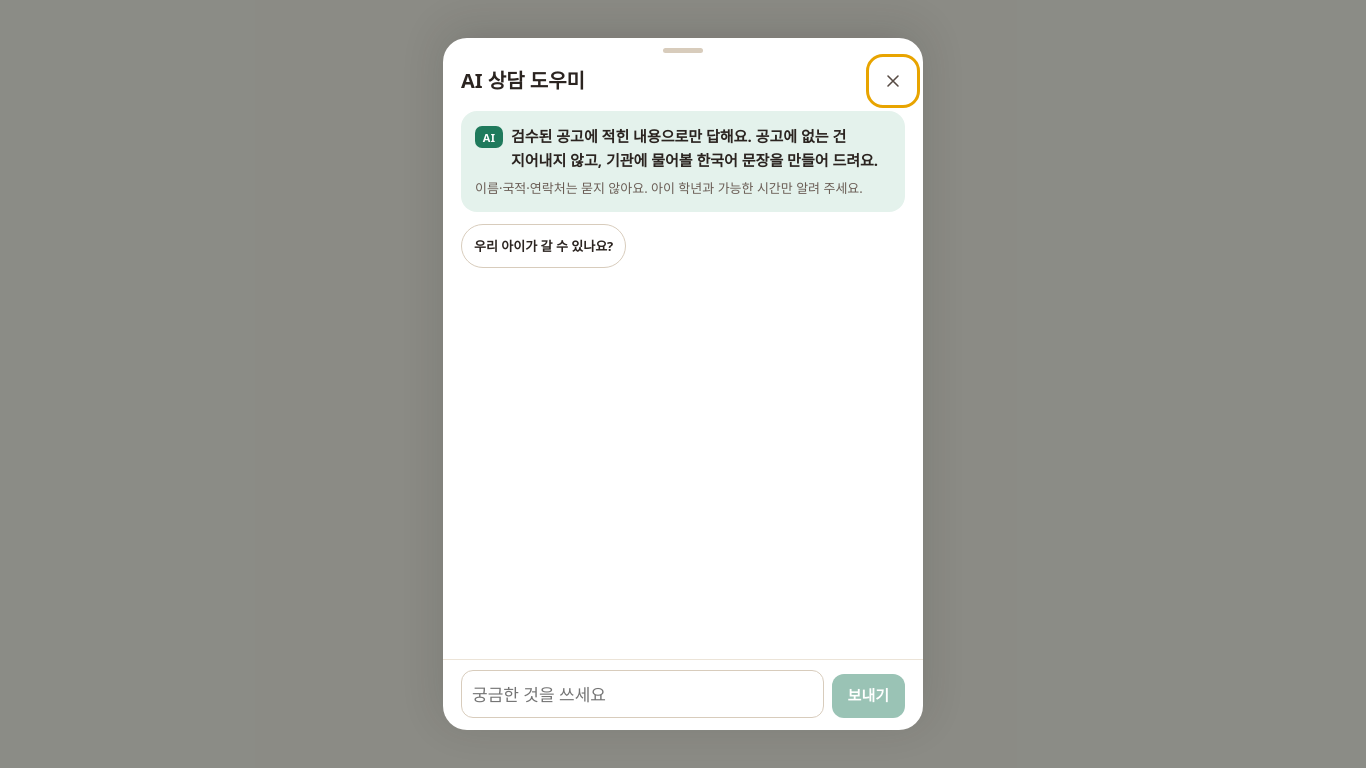
Test: 상담 요청 대화 길이 › 답을 기다리는 중에 새로 묻기를 누르면 요청을 취소하고 늦게 온 답은 버린다
The image size is (1366, 768).
Type "첫 질문" into the text box labelled "궁금한 것을 쓰세요" at (642, 694), box [461,670,824,718]
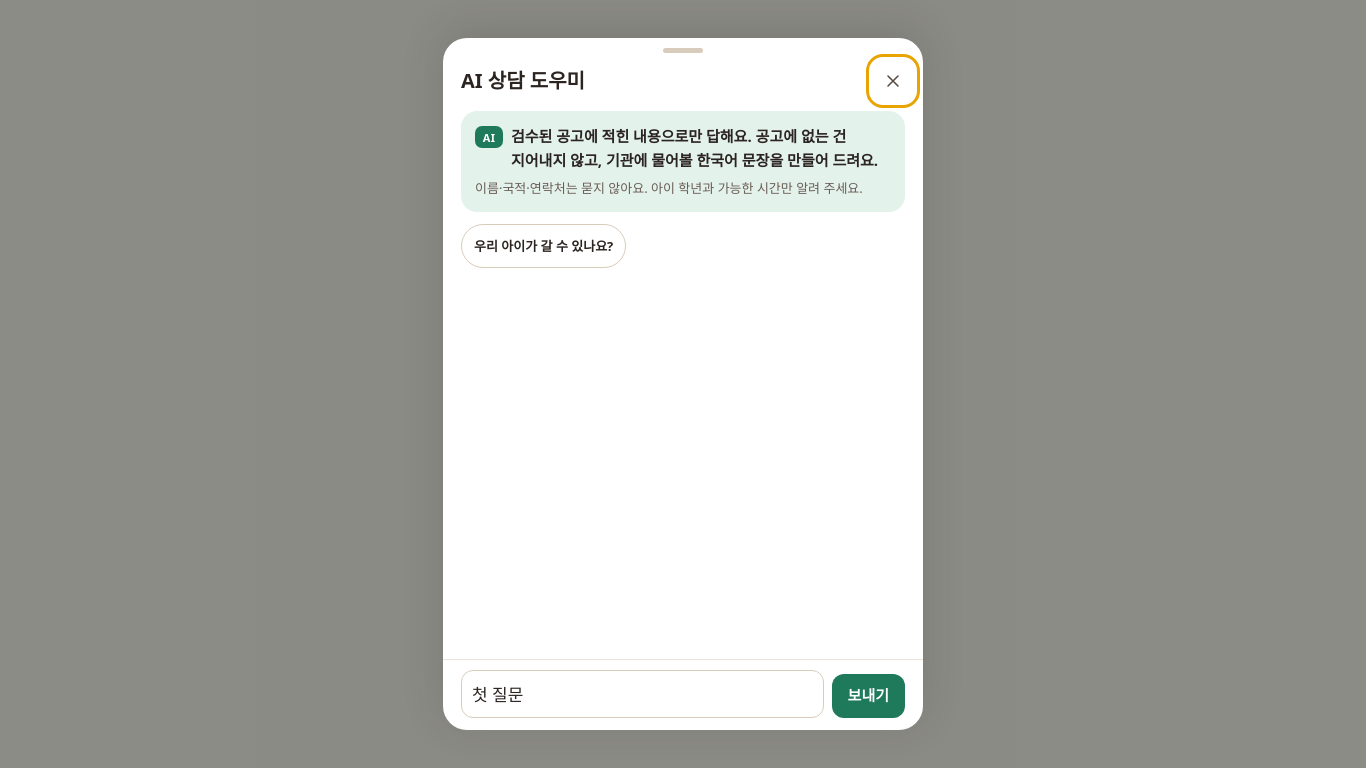
Press Enter in the text box named "궁금한 것을 쓰세요", box [461,670,824,718]
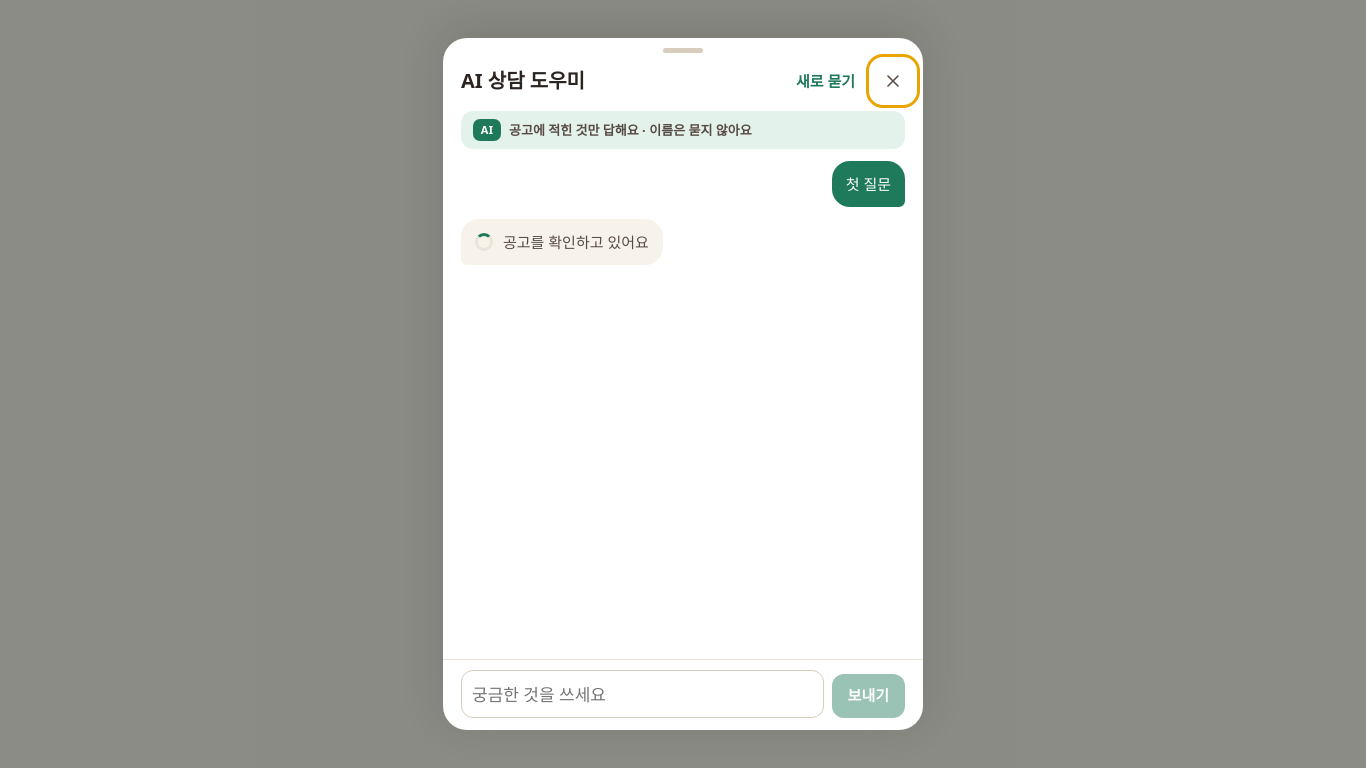
Click the button "새로 묻기" at (825, 81), box [788,59,863,103]
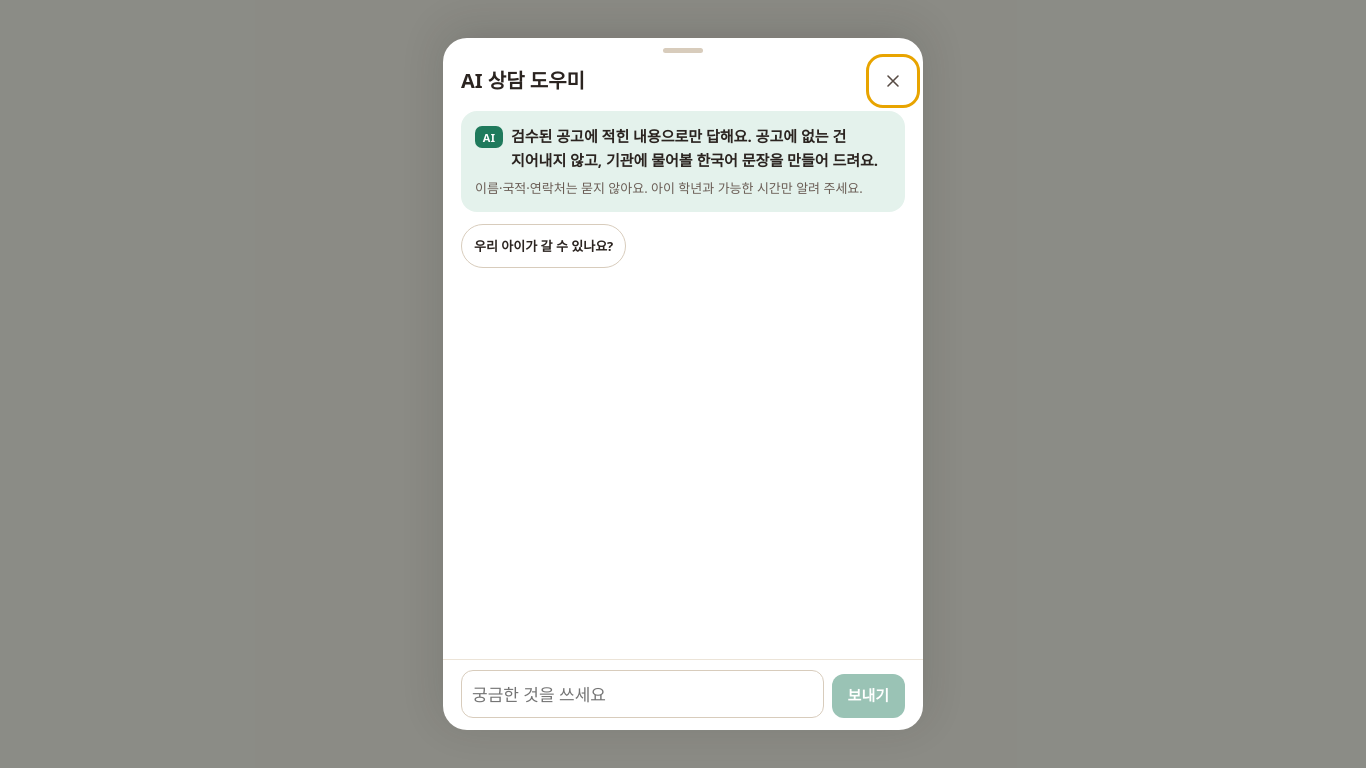
Now the text "공고를 확인하고 있어요" is gone
Now the text "첫 질문" is gone
